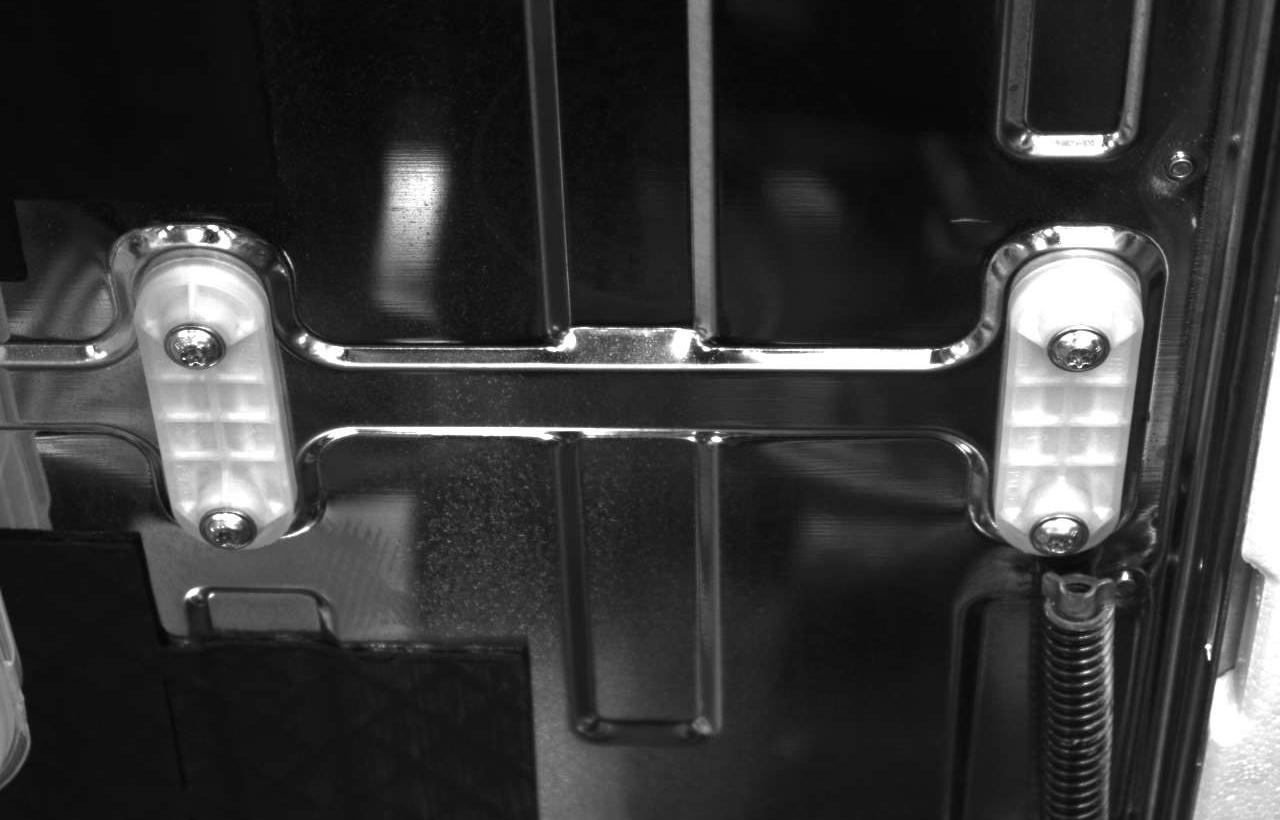vida-ok: (161, 314, 233, 381), (1046, 321, 1113, 388), (194, 495, 260, 554), (1029, 505, 1094, 564)
